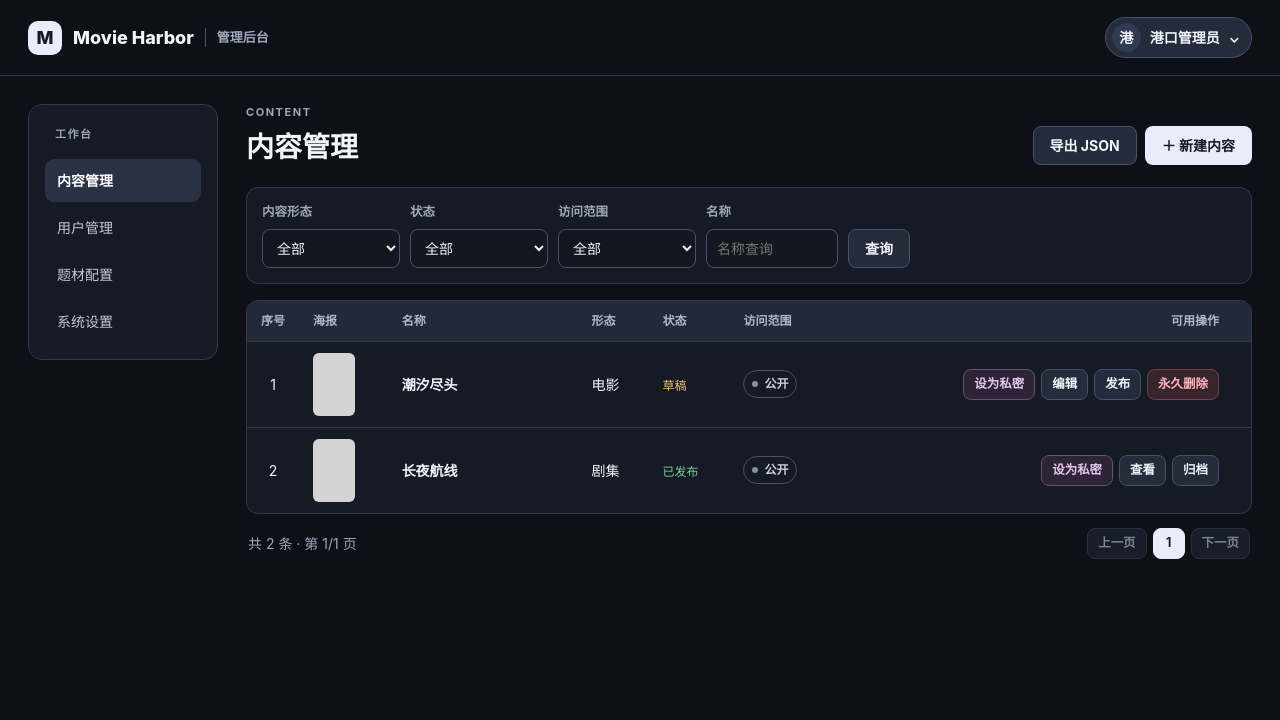
keeps wrong-current-password feedback in the dialog when the session remains valid
The width and height of the screenshot is (1280, 720).
Click the button "港 港口管理员 ⌄". click: (1178, 38)
box: [1105,17,1252,58]
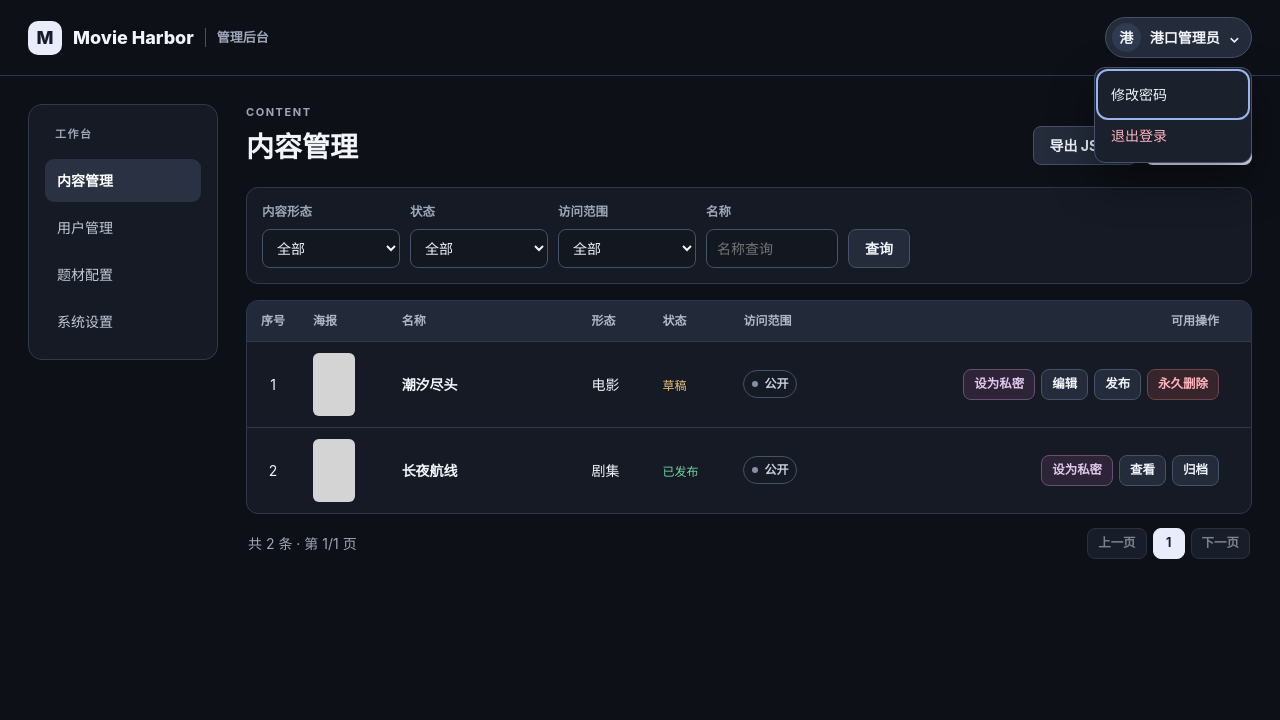
Click the menu item "修改密码". click: (1173, 94)
box: [1101,74,1245,115]
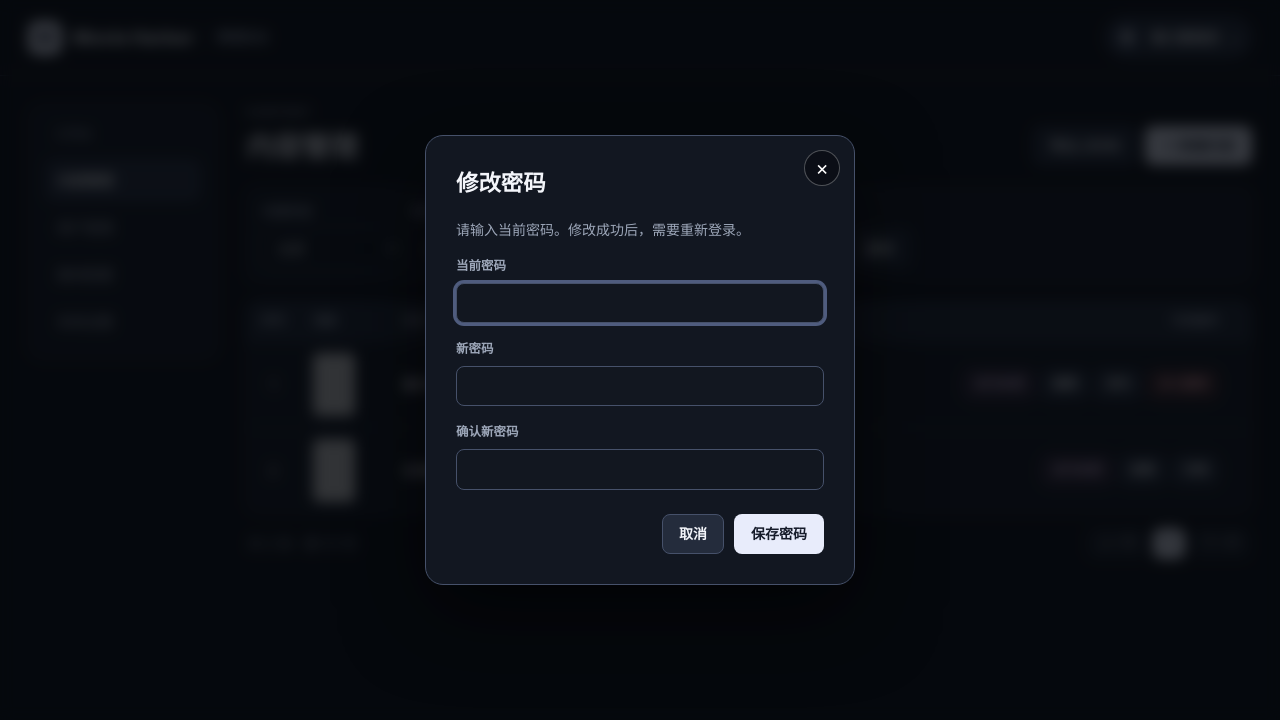
Type "wrong" into the password field labelled "当前密码". click: (640, 303)
box: [456,283,824,323]
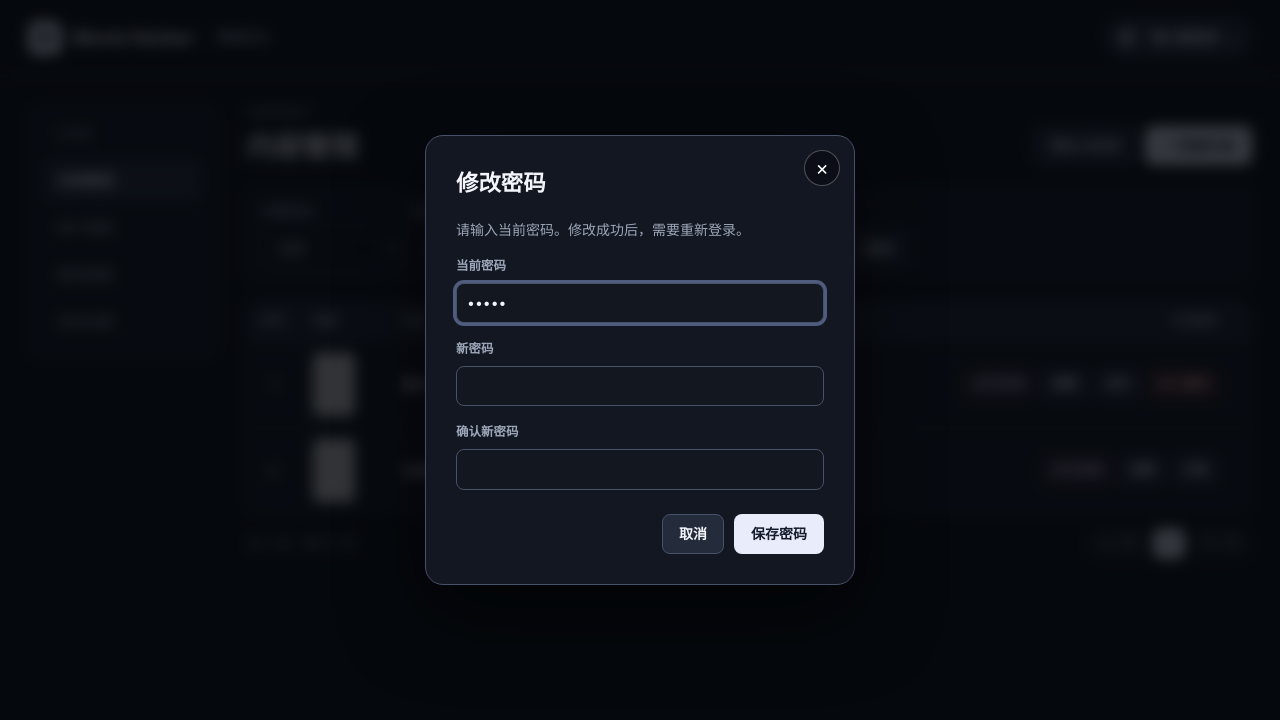
Type "new-password" into the password field labelled "新密码". click: (640, 386)
box: [456,366,824,406]
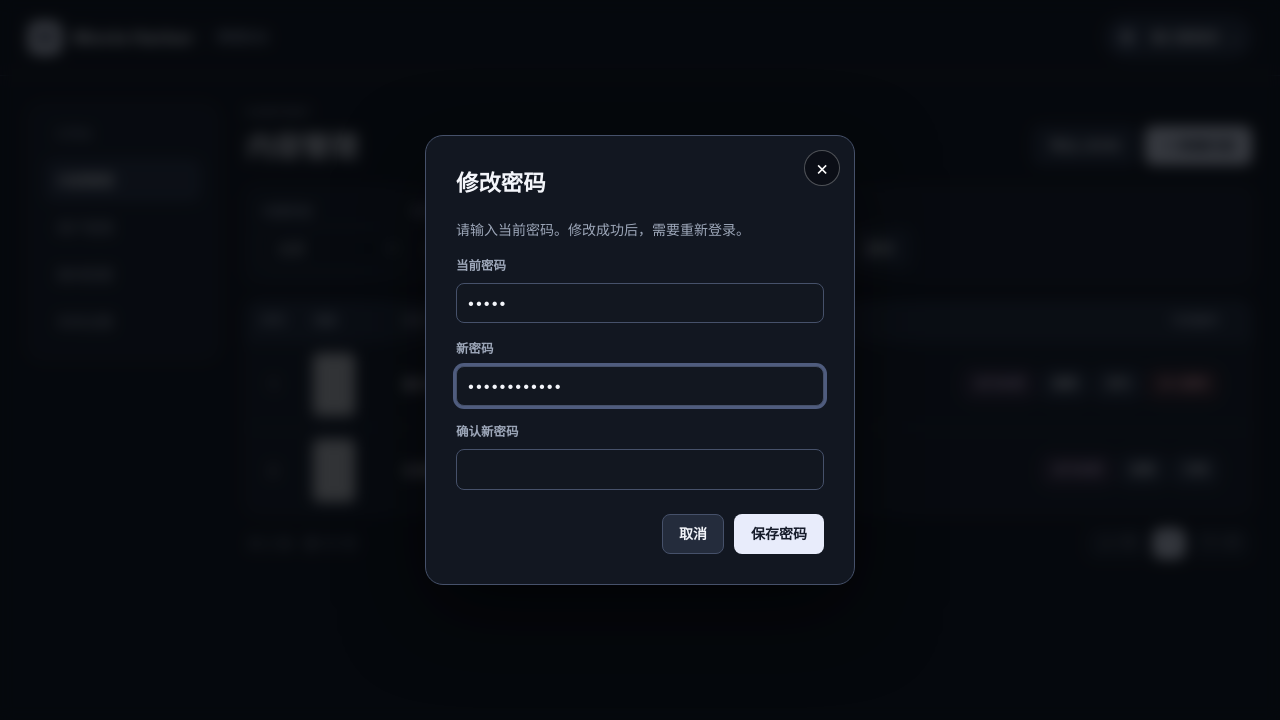
Type "new-password" into the password field labelled "确认新密码". click: (640, 470)
box: [456,450,824,490]
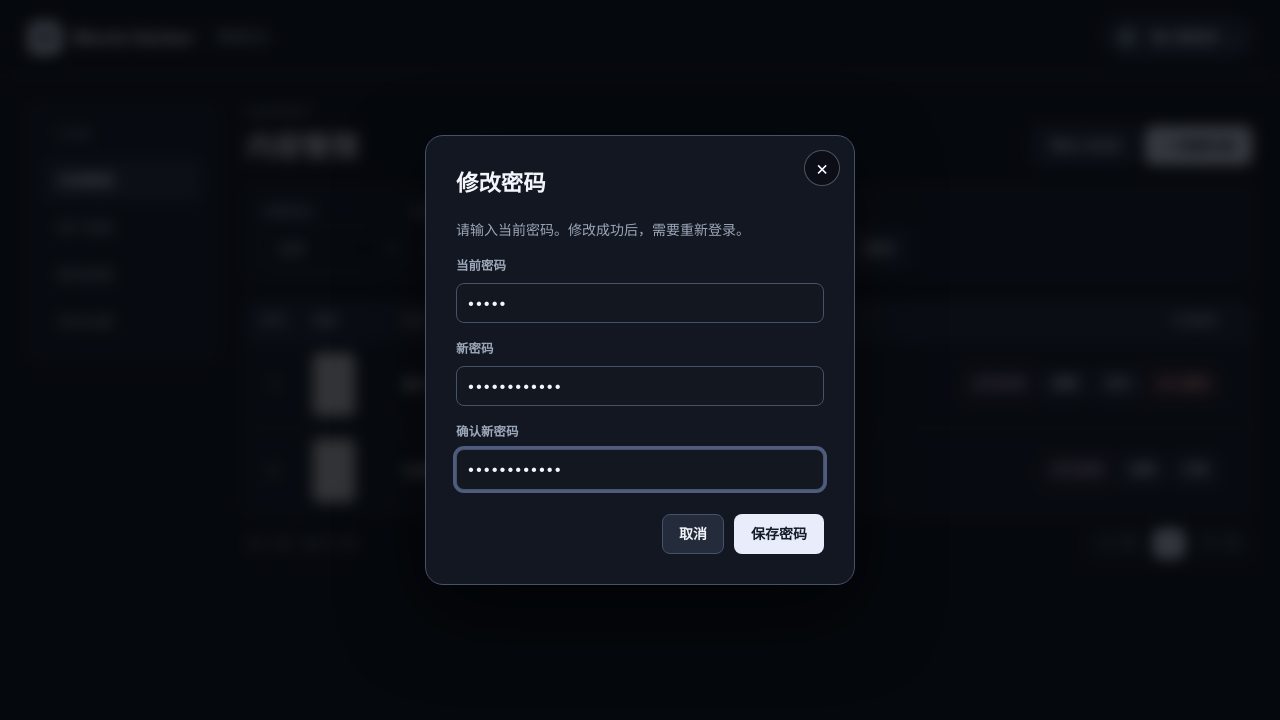
Click the button "保存密码". click: (779, 534)
box: [734,514,824,554]
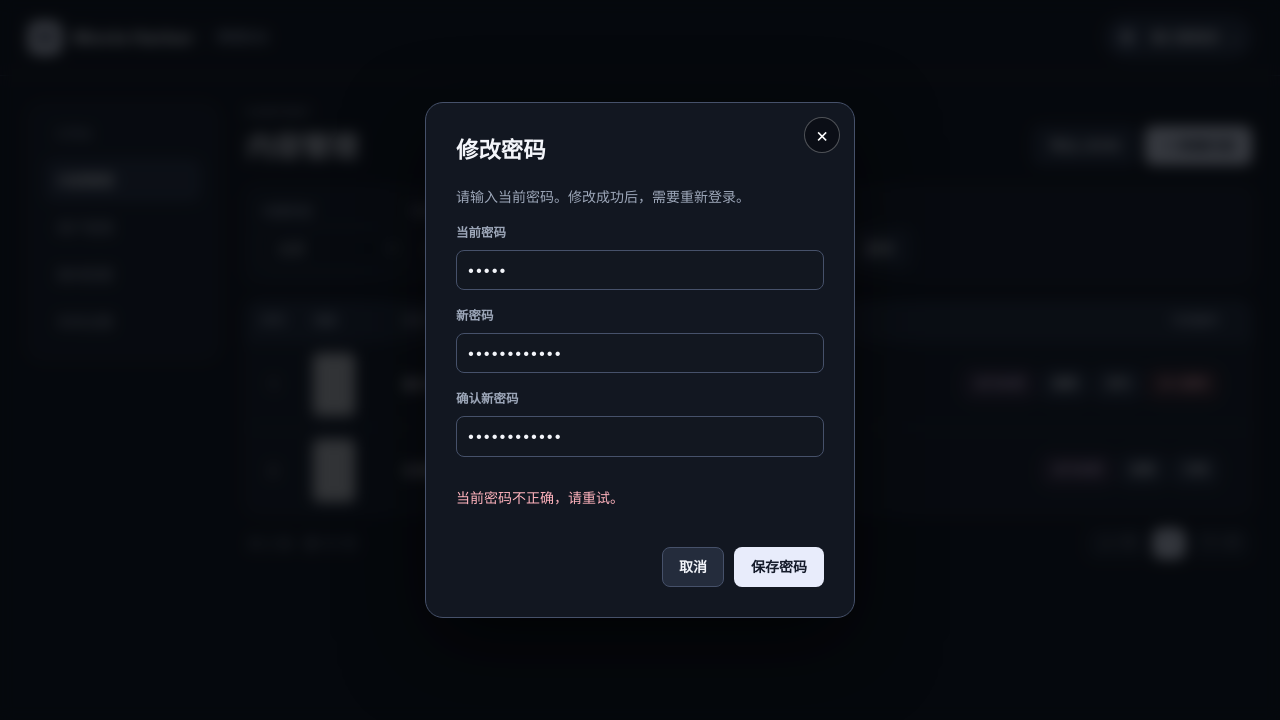
Result: the dialog is shown at [425,102,855,618]
Result: the message shows "当前密码" at [456,489,624,506]
